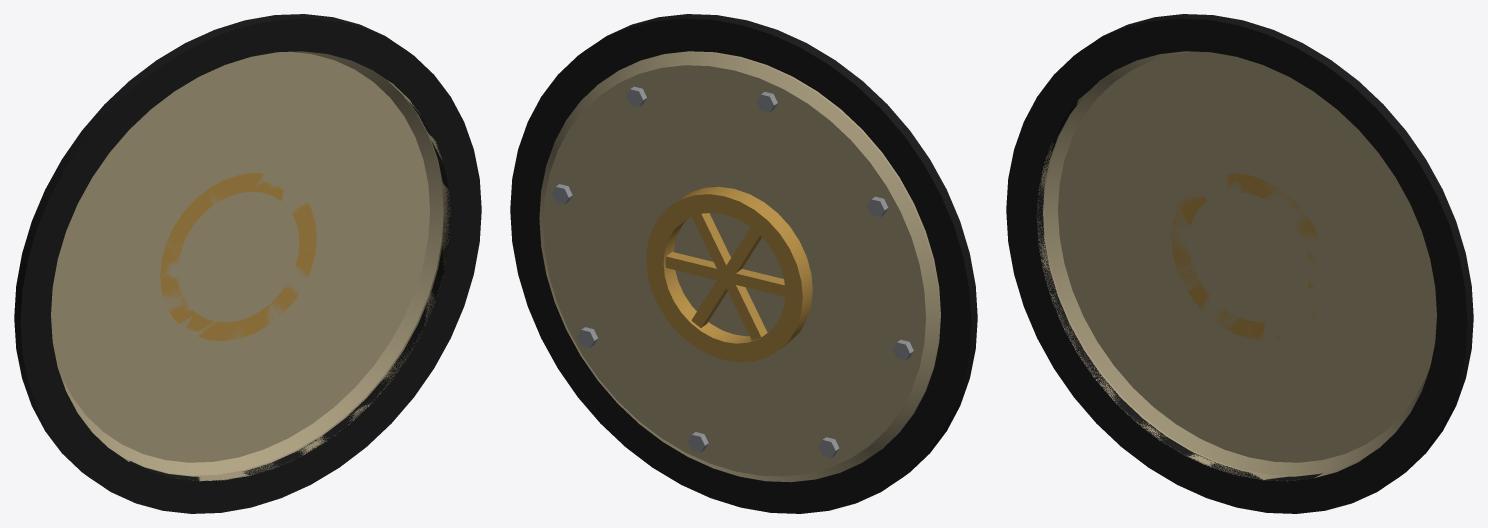
Rendered from pod4_seal.obj.
The picture shows the model from 3 angles, left to right: view 1: azimuth 30°, elevation 25°; view 2: azimuth 150°, elevation 25°; view 3: azimuth 330°, elevation 25°; orthographic projection.
Parts seen in each view (by area): view 1: pod4_seal; view 2: pod4_seal; view 3: pod4_seal.
Part boxes in pixels (<box>): pod4_seal: <box>14,14,481,513</box>; pod4_seal: <box>510,14,977,513</box>; pod4_seal: <box>1006,14,1473,513</box>.
Size of the model in its own units: 1.06 by 1.06 by 0.09.
